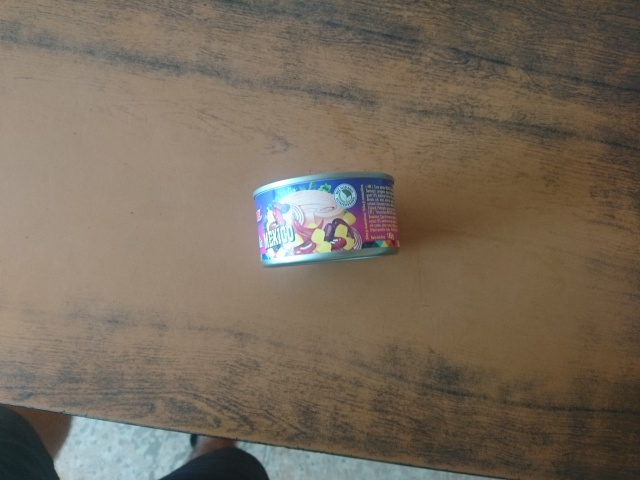Giana Tuna Salad Mexico 185g: (250, 168, 403, 269)
